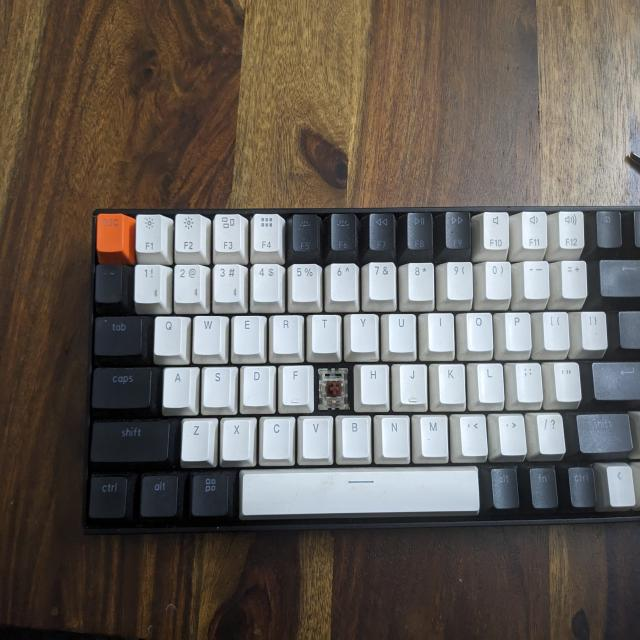C: (315, 363, 352, 412)
